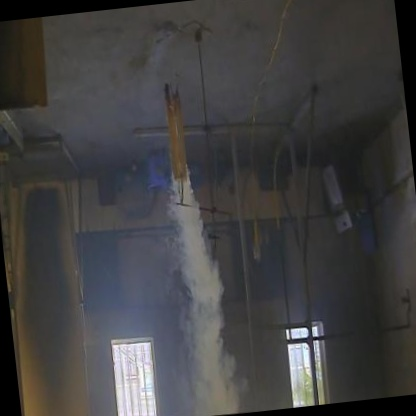smoke: (139, 147, 251, 416)
